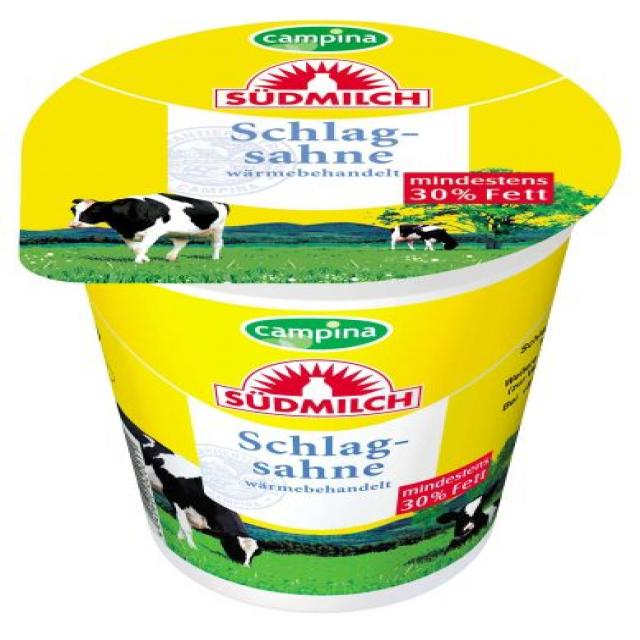Cream: (20, 20, 620, 611)
